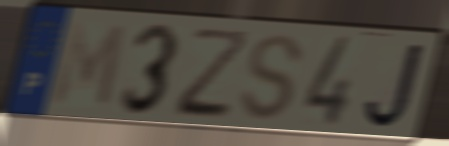3: (118, 21, 182, 118)
4: (301, 34, 353, 130)
J: (361, 39, 429, 131)
M: (48, 19, 129, 113)
S: (237, 31, 307, 124)
Z: (173, 26, 253, 122)
